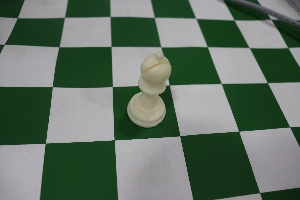white_bishop: (123, 38, 178, 140)
